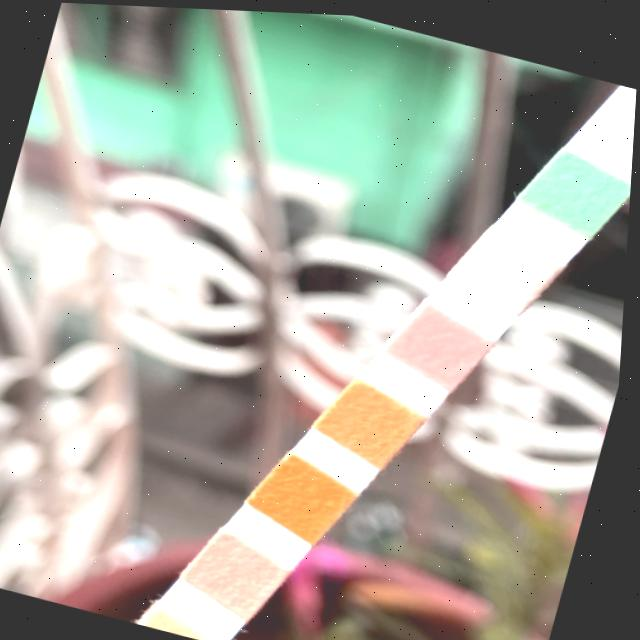Bilirubin: (475, 229, 542, 296)
Blood: (273, 461, 345, 527)
Glucose: (542, 152, 610, 223)
Ketone: (408, 308, 475, 373)
Protein: (151, 616, 214, 639)
SpGravity: (339, 386, 407, 450)
pH: (205, 540, 276, 604)
